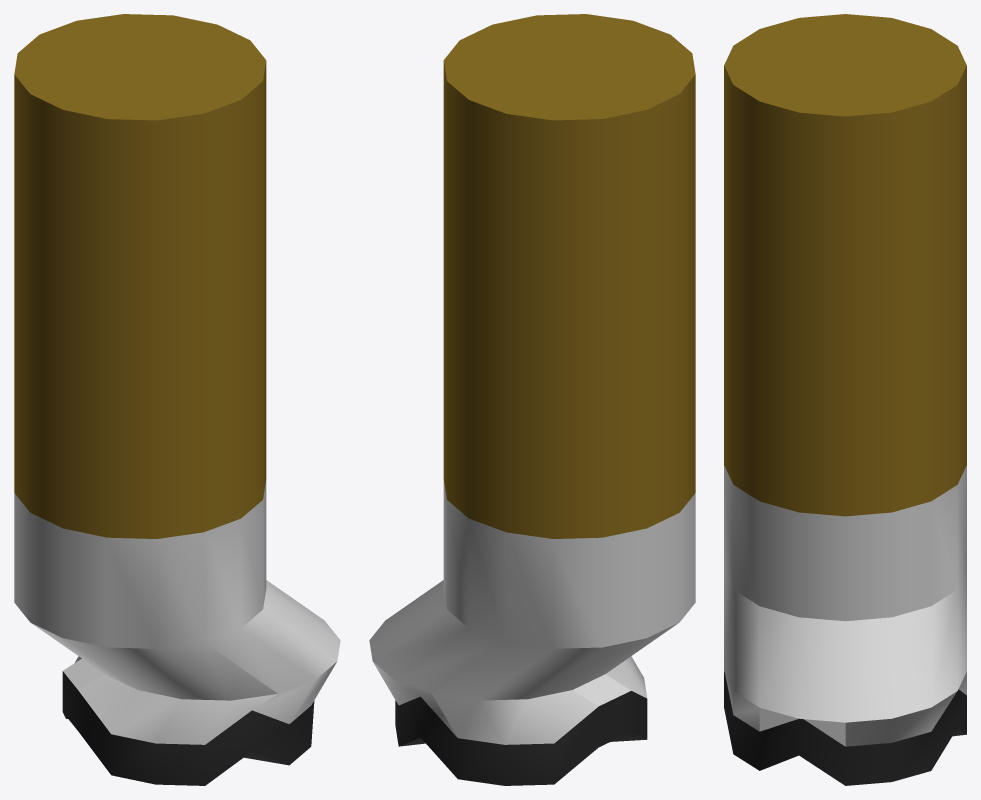
Rendered from cigaretteButt.fbx.
3 views of the same model, side by side, from view 1: azimuth 30°, elevation 25°; view 2: azimuth 150°, elevation 25°; view 3: azimuth 270°, elevation 25° (orthographic). The views are drawn at different scales.
Parts seen in each view (by area): view 1: Cigarettes Butt; view 2: Cigarettes Butt; view 3: Cigarettes Butt.
Boxes of the visible parts, box(x1,y1,x2,y2) form: Cigarettes Butt: box(14, 14, 340, 785); Cigarettes Butt: box(369, 14, 695, 785); Cigarettes Butt: box(724, 14, 966, 785).
Size of the model in its own units: 4.23 by 3.16 by 9.29.
